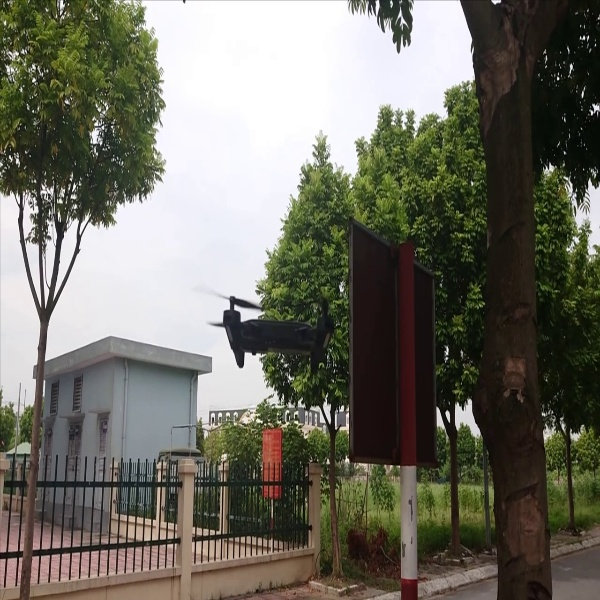drone: (201, 285, 345, 389)
